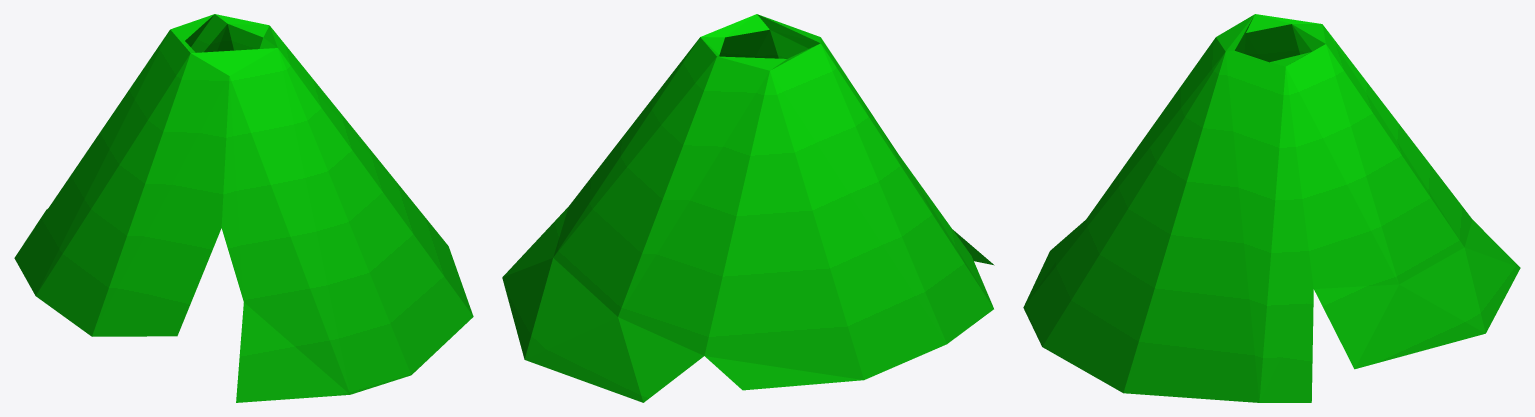
Rendered from Prefab_Foliage_Tree_Spruce_Leaves_D.glb.
3 views of the same model, side by side, from view 1: azimuth 30°, elevation 25°; view 2: azimuth 150°, elevation 25°; view 3: azimuth 270°, elevation 25° (orthographic). The views are drawn at different scales.
Parts seen in each view (by area): view 1: Spruce_A_Trunk.007; view 2: Spruce_A_Trunk.007; view 3: Spruce_A_Trunk.007.
Boxes of the visible parts, x1,y1,x2,y2 form: Spruce_A_Trunk.007: (14, 14, 473, 402); Spruce_A_Trunk.007: (502, 14, 994, 402); Spruce_A_Trunk.007: (1023, 14, 1520, 402).
Size of the model in its own units: 4.57 by 3.02 by 4.93.
Materials: 1 (1 with a texture image).
